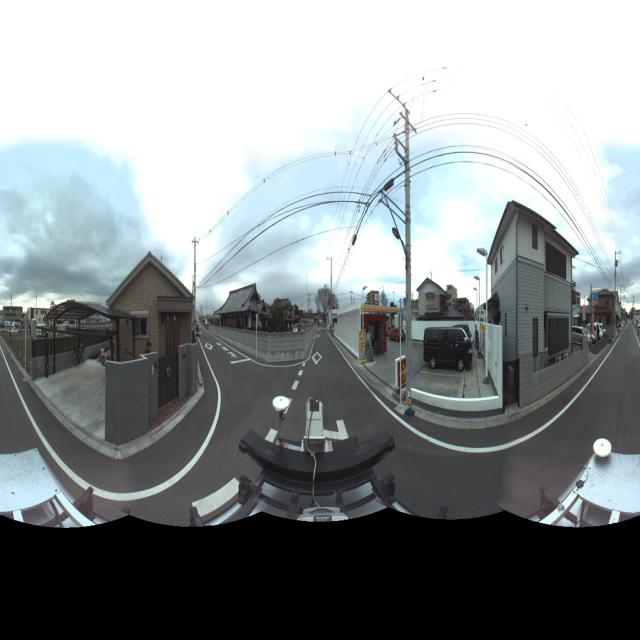b_1: (488, 202, 575, 376), (112, 248, 198, 376), (218, 277, 270, 339), (415, 268, 463, 328), (593, 284, 619, 338)
